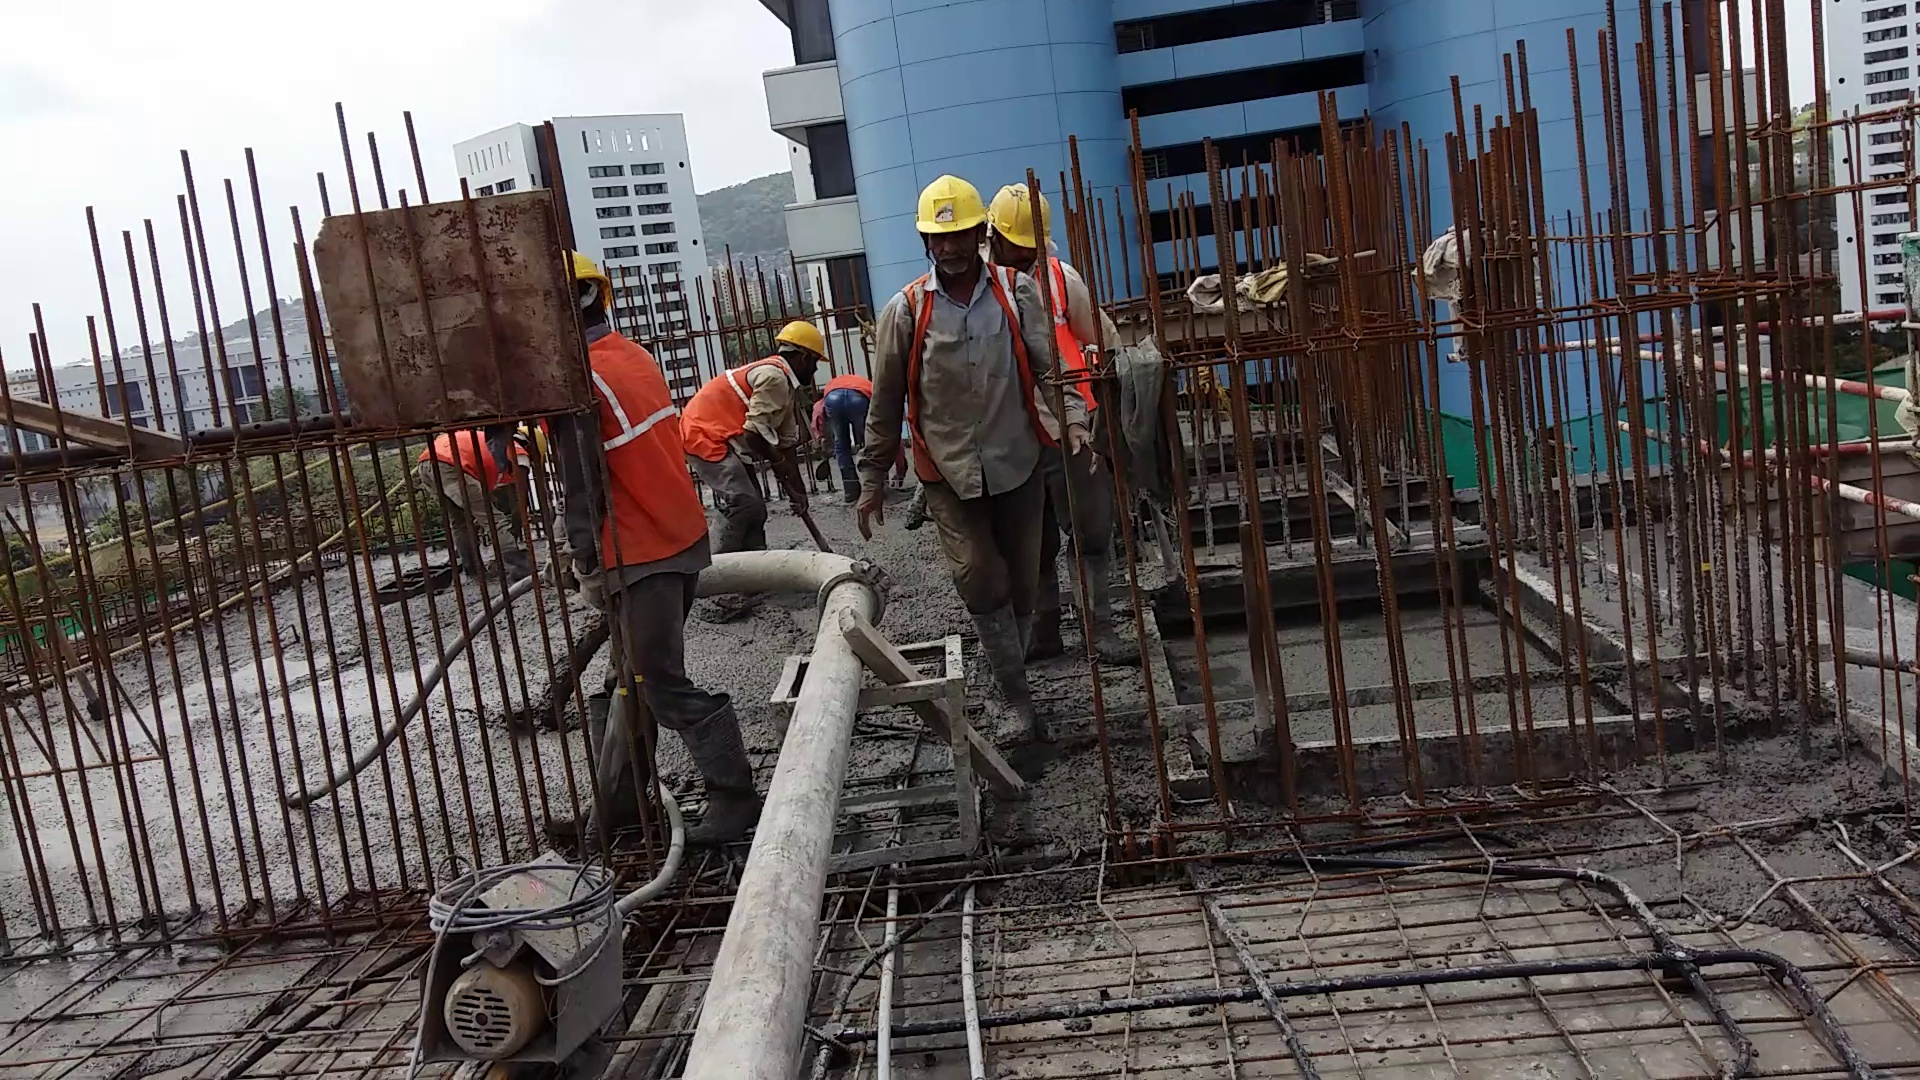SAFE: (572, 244, 694, 572), (895, 175, 1007, 506), (688, 314, 823, 456)
